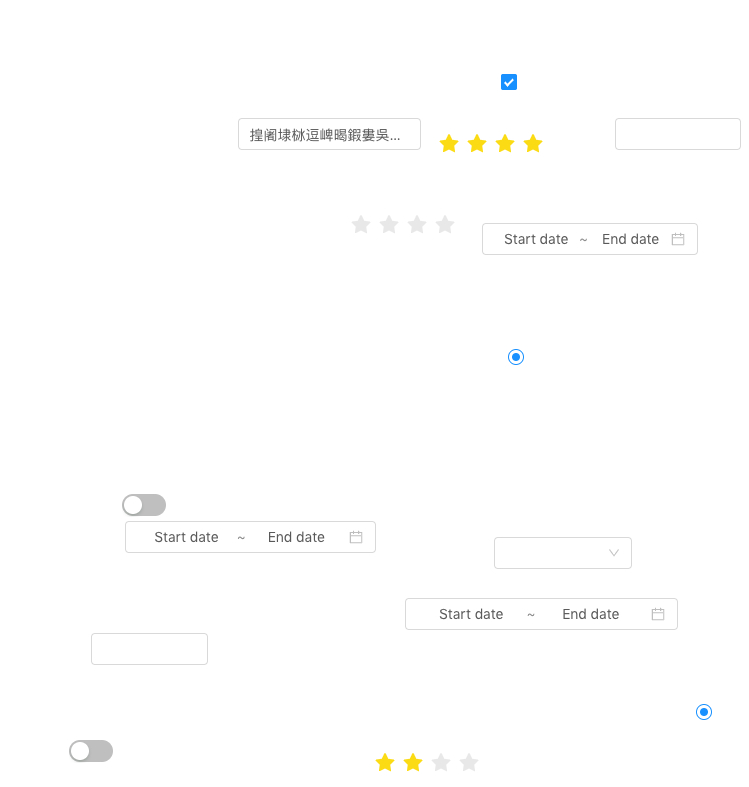Checkbox: (501, 71, 517, 92)
Input: (238, 118, 421, 150), (615, 118, 741, 150), (91, 633, 208, 665)
Radio: (696, 701, 712, 721), (508, 346, 524, 366)
RangePicker: (405, 598, 678, 630), (125, 521, 376, 553), (482, 223, 698, 255)
Rate: (351, 208, 471, 240), (439, 127, 559, 159), (375, 746, 495, 778)
Select: (494, 537, 632, 569)
Switch: (69, 739, 113, 763), (122, 493, 166, 517)
